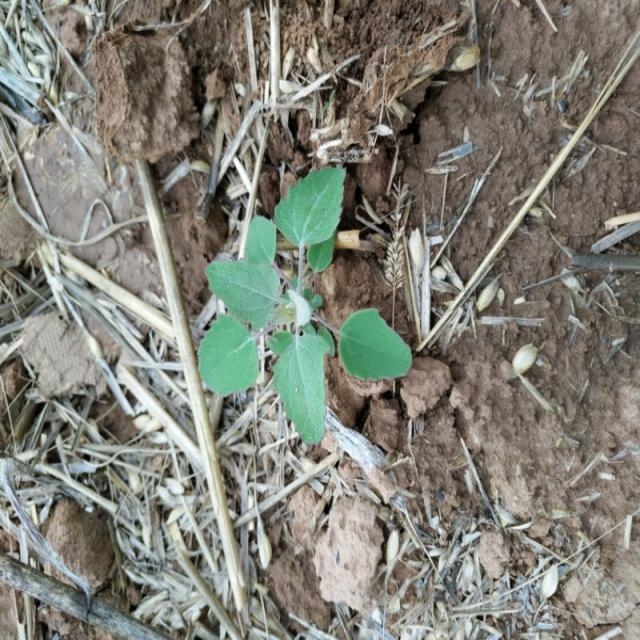goosefoots: (194, 158, 408, 433)
